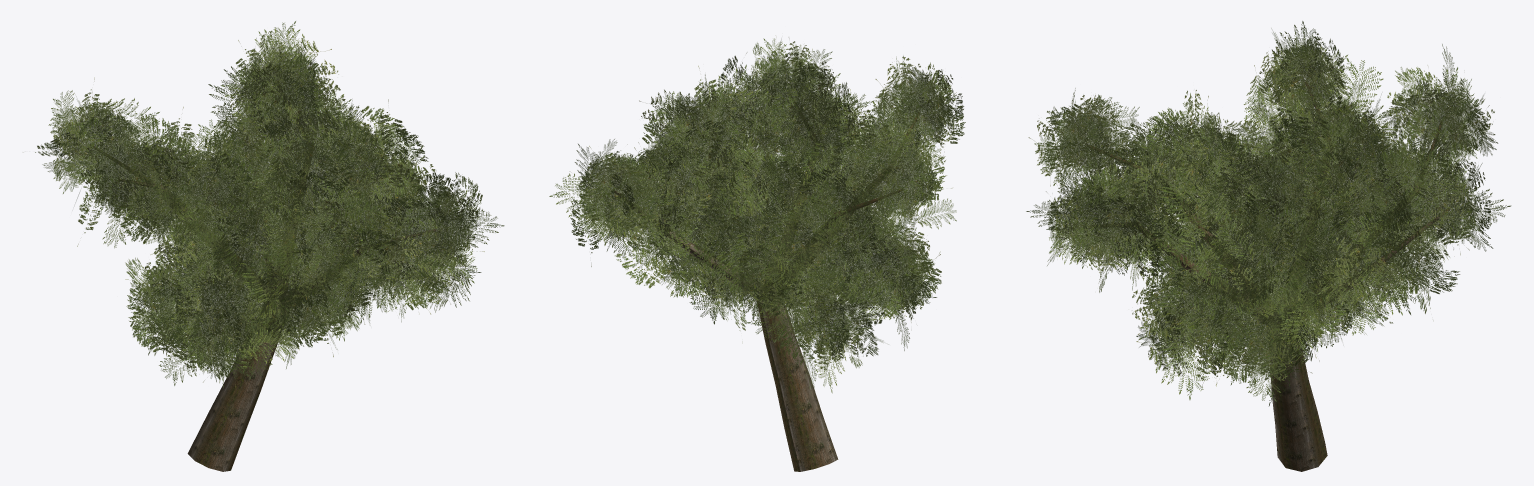
File: olive_3.glb
The picture shows the model from 3 angles, left to right: view 1: azimuth 30°, elevation 25°; view 2: azimuth 150°, elevation 25°; view 3: azimuth 270°, elevation 25°; orthographic projection. The views are drawn at different scales.
Parts seen in each view (by area): view 1: olive; view 2: olive; view 3: olive.
Boxes of the visible parts, box(x1,y1,x2,y2) form: olive: box(35, 21, 504, 471); olive: box(549, 38, 965, 471); olive: box(1026, 21, 1511, 471).
Bounding box in the file's own units: 7.41 × 7.73 × 8.46.
Materials: 2 (2 with a texture image).
